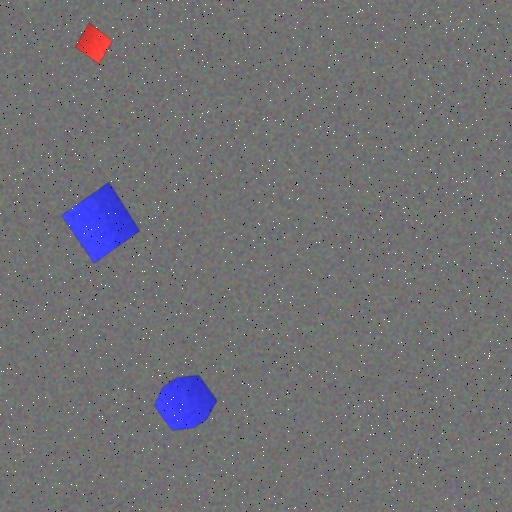BLUE_SQUARE: (61, 182, 141, 264)
RED_SQUARE: (74, 22, 114, 64)
